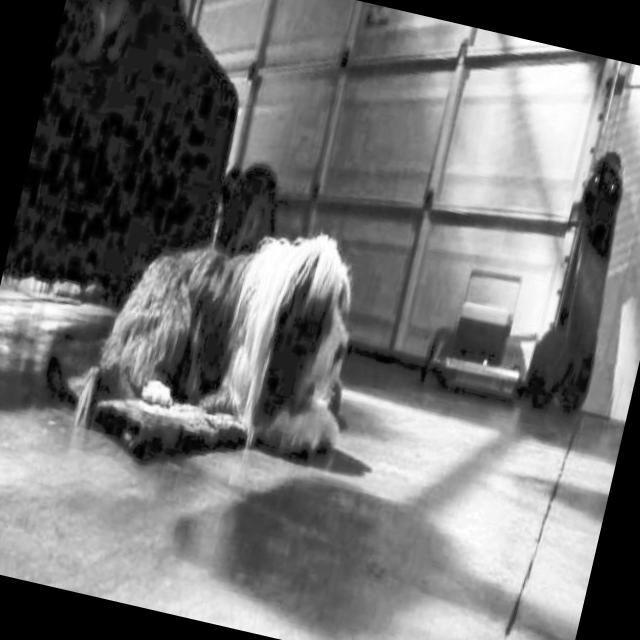Dog: (62, 183, 395, 510)
